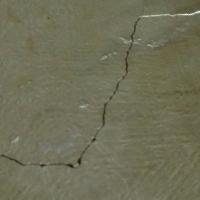crack: (0, 10, 199, 176)
